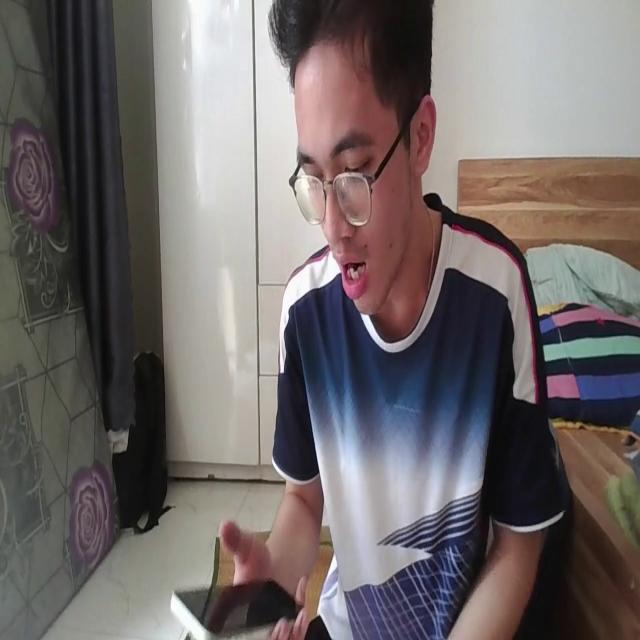phone: (171, 573, 307, 640)
student: (218, 1, 552, 640)
